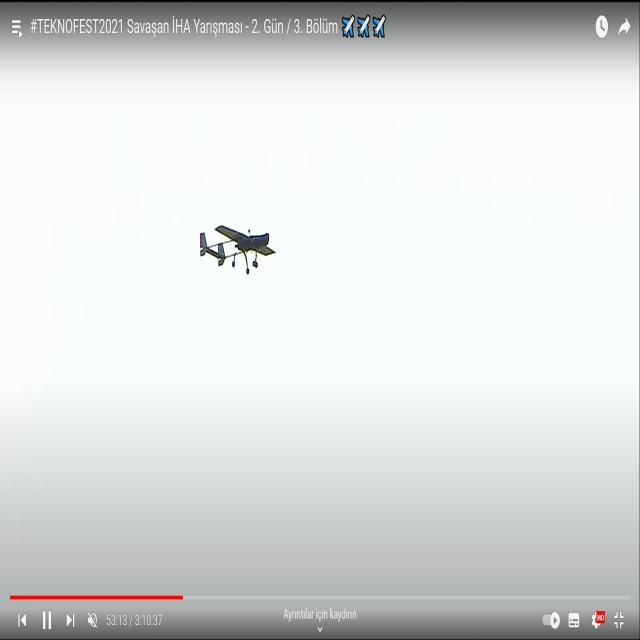iha: (230, 222, 245, 272)
